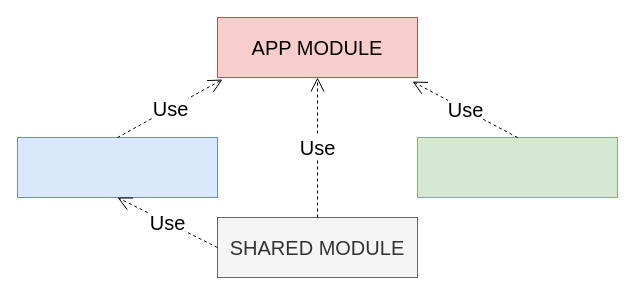
Some shapes in this 635 by 295 pixel diagram are drawn without their labels. Each missing label, with the centre of its shape:
PAGES MODULE: point (117, 167)
REDUX MODULE: point (517, 167)
